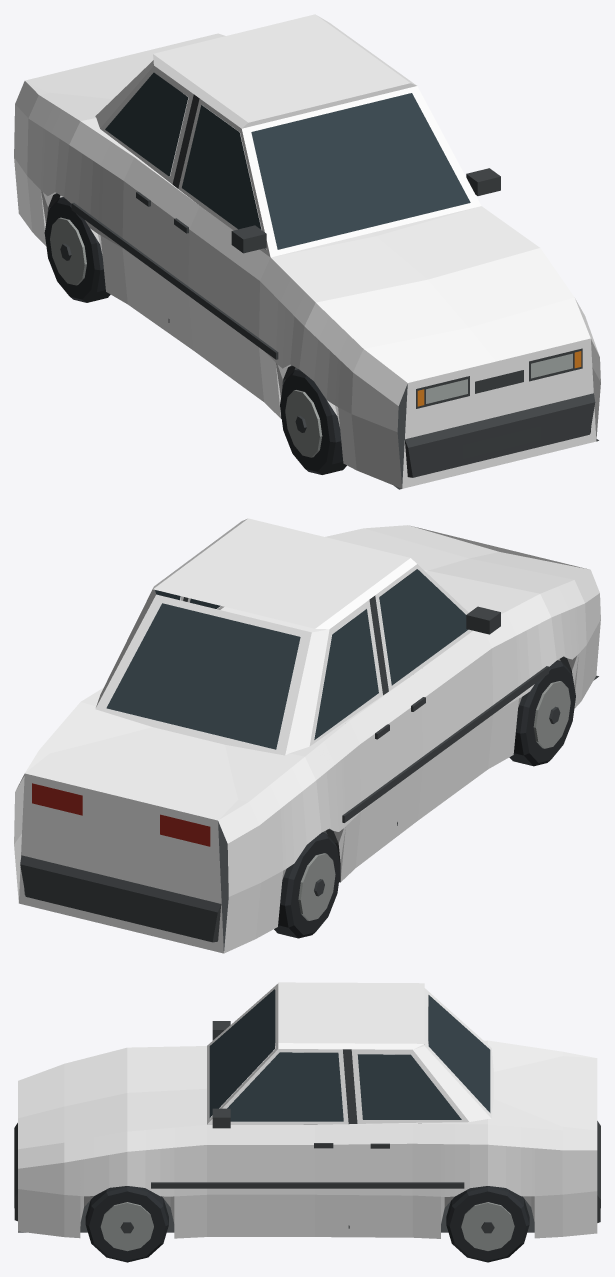
The model's file is tomoe_hatsukaze_ii.glb.
The picture shows the model from 3 angles, top to bottom: view 1: azimuth 30°, elevation 25°; view 2: azimuth 150°, elevation 25°; view 3: azimuth 270°, elevation 25°; orthographic projection. The views are drawn at different scales.
Parts seen in each view (by area): view 1: tomoe_hatsukaze_ii; view 2: tomoe_hatsukaze_ii; view 3: tomoe_hatsukaze_ii.
Boxes of the visible parts, x1=… form: tomoe_hatsukaze_ii: x1=14, y1=14, x2=600, y2=489; tomoe_hatsukaze_ii: x1=14, y1=518, x2=600, y2=953; tomoe_hatsukaze_ii: x1=14, y1=982, x2=600, y2=1262.
Size of the model in its own units: 1.63 by 1.53 by 3.97.
8 materials, 1 textured.
